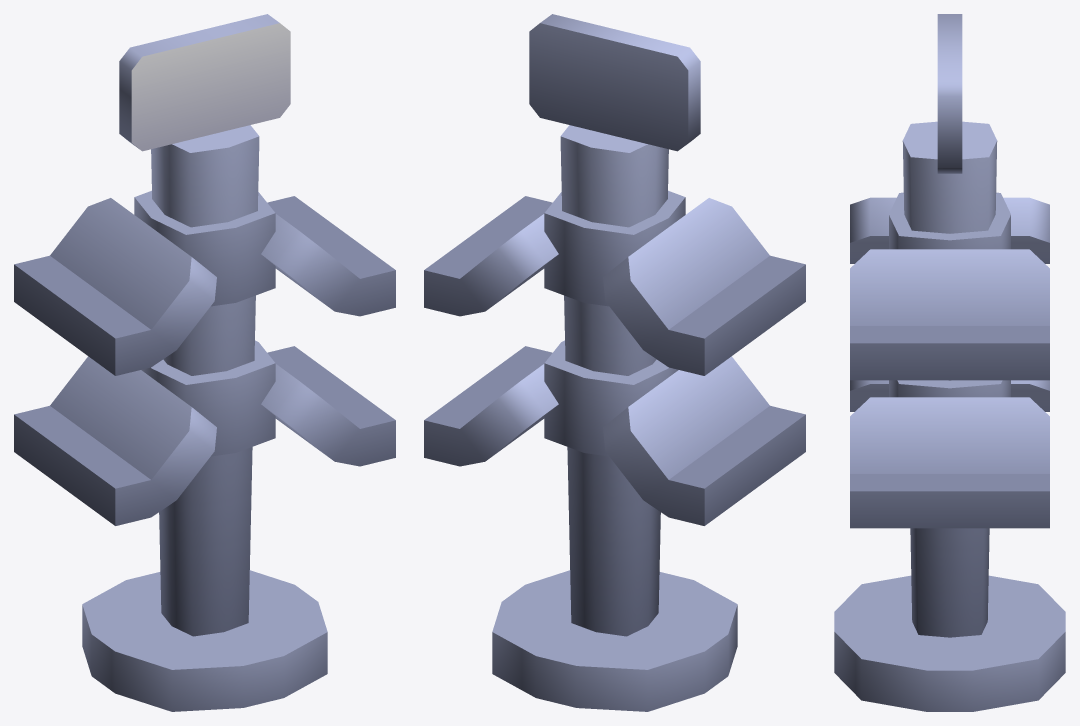
The model's file is display-small.obj.
3 renders of one model, left to right at view 1: azimuth 30°, elevation 25°; view 2: azimuth 150°, elevation 25°; view 3: azimuth 270°, elevation 25°, orthographic.
Visible parts, largest first — view 1: display-small; view 2: display-small; view 3: display-small.
Part boxes in pixels (x1,y1,x2,y2): display-small: [14, 14, 395, 711]; display-small: [424, 14, 805, 711]; display-small: [834, 14, 1065, 711].
Bounding box in the file's own units: 0.3911 × 0.8326 × 0.2834.
1 material, 1 textured.
